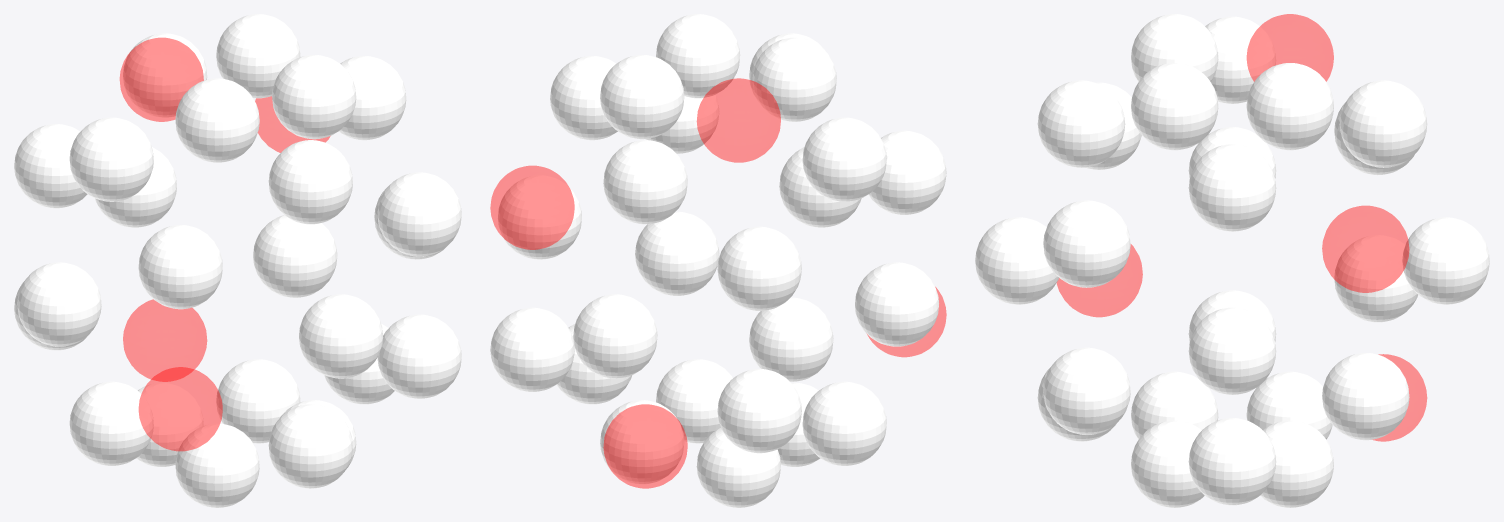
File: machine_coremind_inner_sphere.glb
3 renders of one model, left to right at view 1: azimuth 30°, elevation 25°; view 2: azimuth 150°, elevation 25°; view 3: azimuth 270°, elevation 25°, orthographic. The views are drawn at different scales.
Visible parts, largest first — view 1: machine_coremind_inner_sphere; view 2: machine_coremind_inner_sphere; view 3: machine_coremind_inner_sphere.
Boxes of the visible parts, x1,y1,x2,y2 form: machine_coremind_inner_sphere: (14,14,461,507); machine_coremind_inner_sphere: (490,14,946,507); machine_coremind_inner_sphere: (975,14,1489,507).
Size of the model in its own units: 58.79 by 55.07 by 58.79.
